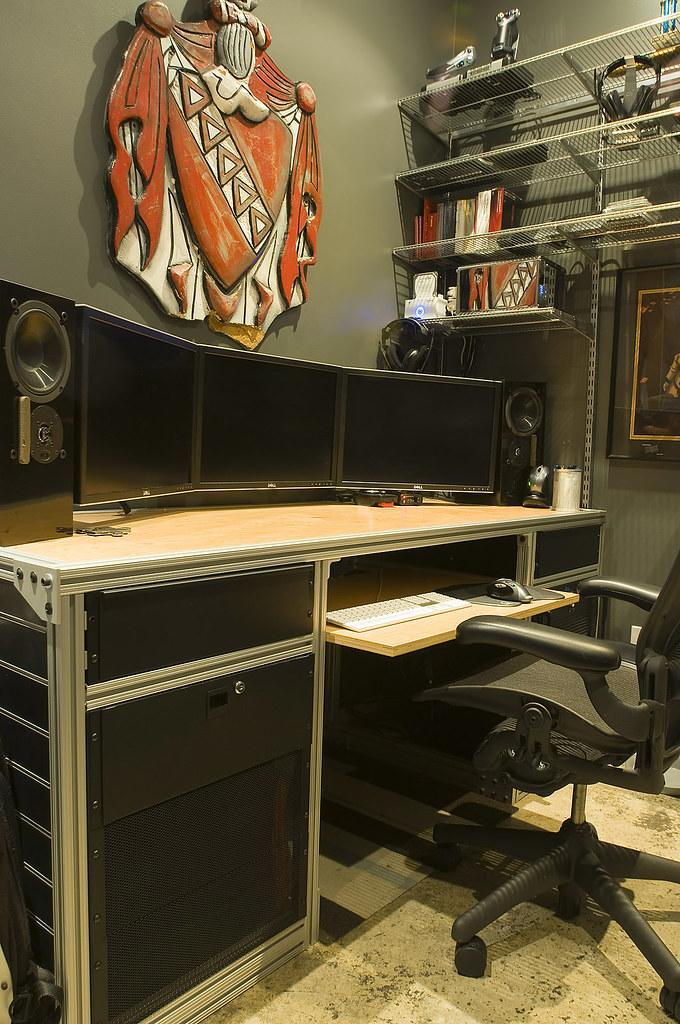computer: (83, 645, 316, 1023), (73, 303, 199, 515), (193, 344, 343, 507), (335, 367, 504, 507)
